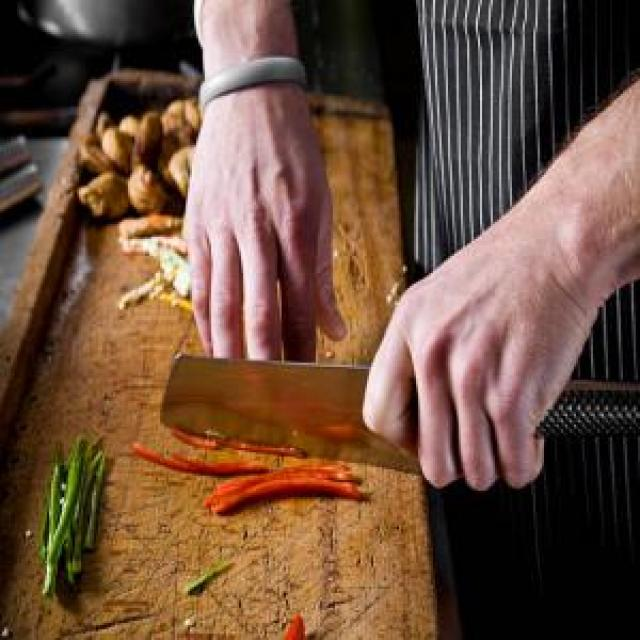knife: (162, 354, 638, 474)
